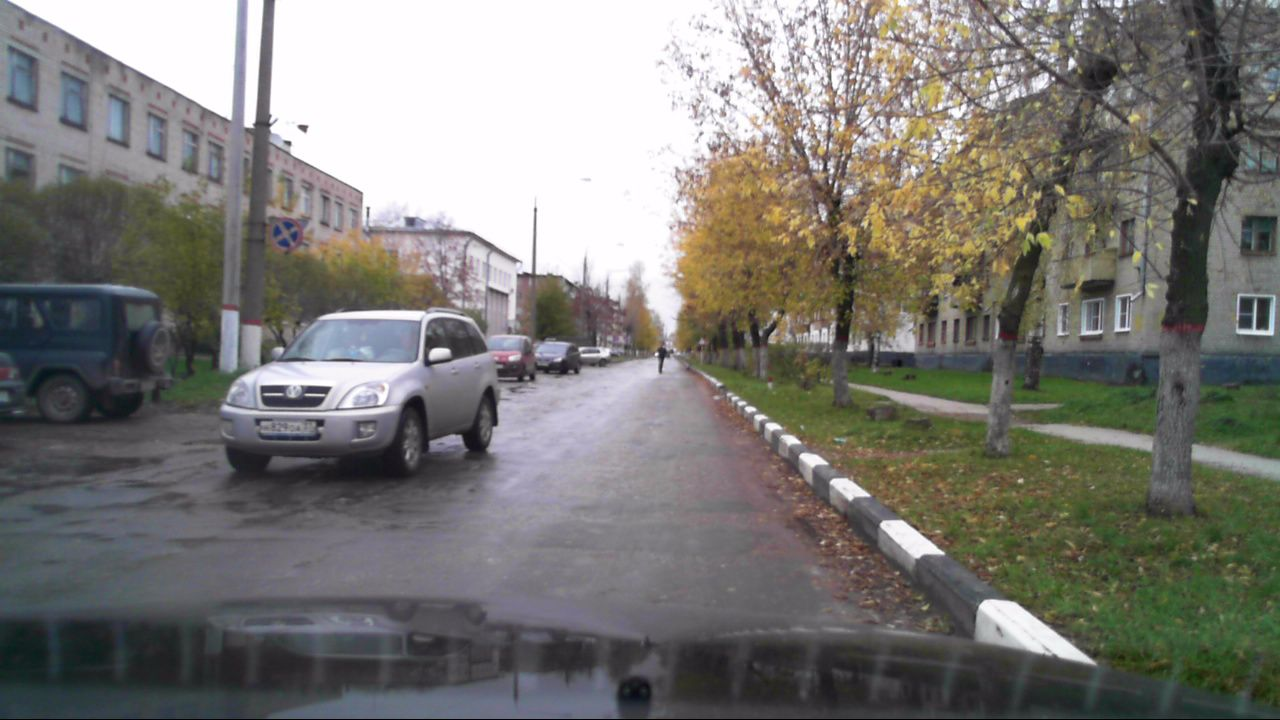No Parking: (268, 217, 303, 253)
